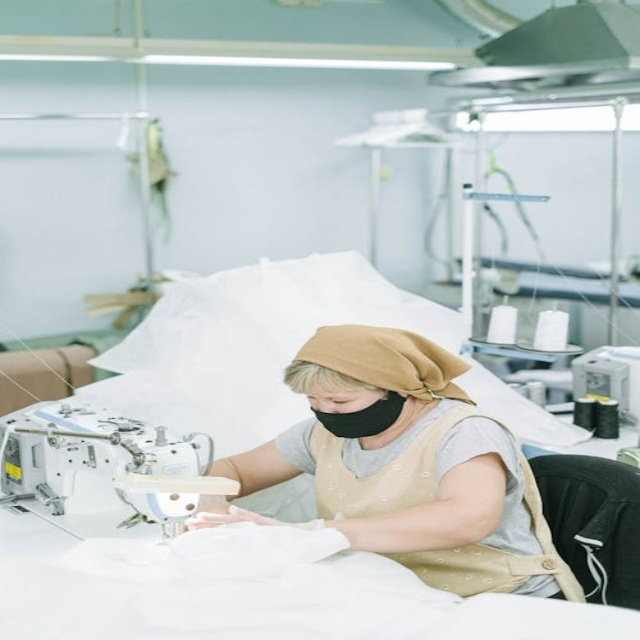Guantes: (180, 503, 330, 548)
Mascara: (311, 392, 408, 438)
Sin_gafas: (303, 392, 358, 408)
